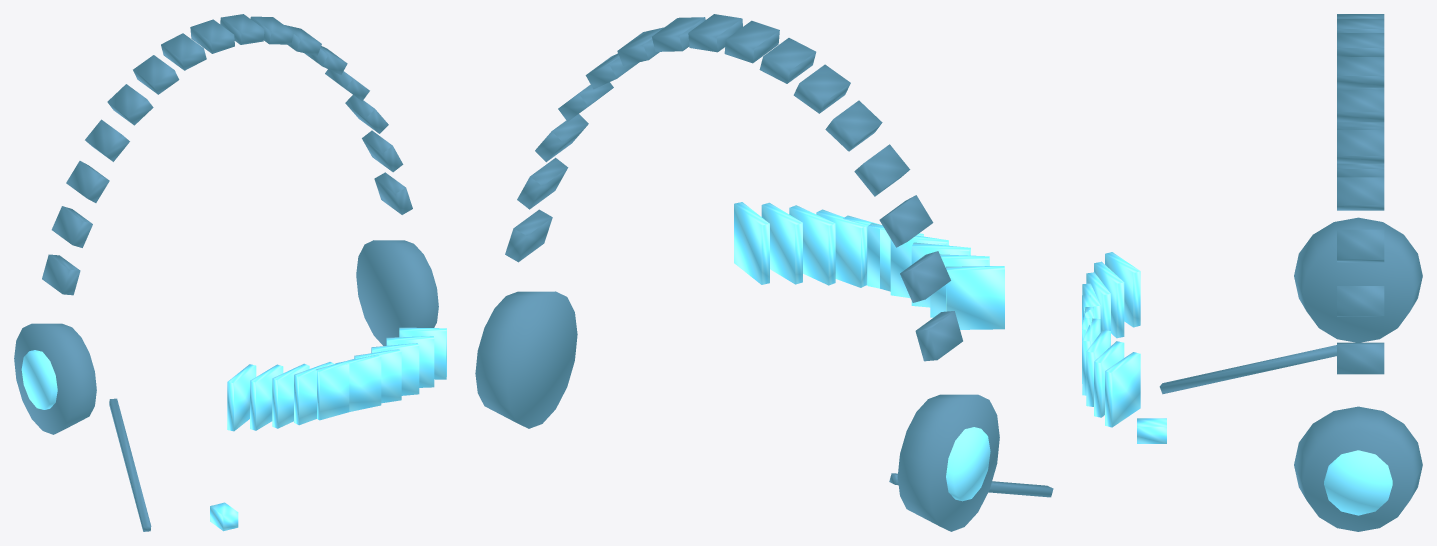
The model's file is tactical-headset.glb.
The picture shows the model from 3 angles, left to right: view 1: azimuth 30°, elevation 25°; view 2: azimuth 150°, elevation 25°; view 3: azimuth 270°, elevation 25°; orthographic projection. The views are drawn at different scales.
Parts seen in each view (by area): view 1: TS_HeadProp_tactical-headset; view 2: TS_HeadProp_tactical-headset; view 3: TS_HeadProp_tactical-headset.
Part boxes in pixels (x1=…): TS_HeadProp_tactical-headset: x1=14, y1=14, x2=446, y2=531; TS_HeadProp_tactical-headset: x1=475, y1=14, x2=1053, y2=531; TS_HeadProp_tactical-headset: x1=1082, y1=14, x2=1422, y2=531.
Size of the model in its own units: 0.233 by 0.237 by 0.1586.
Materials: 1 (1 with a texture image).
